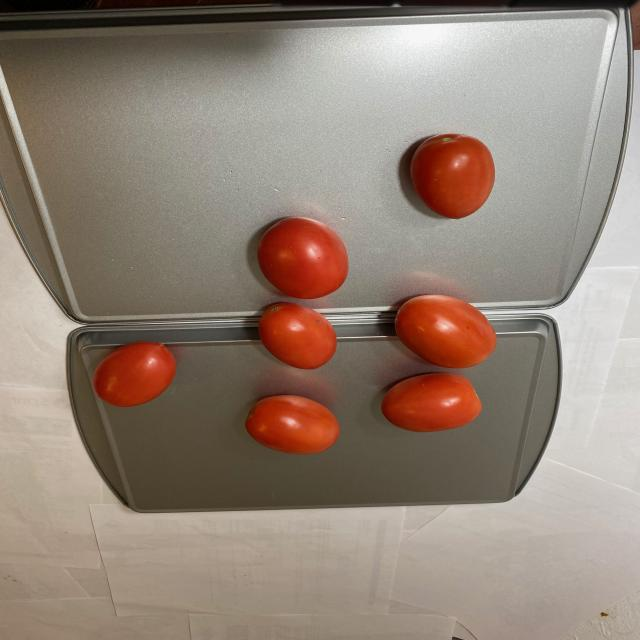tomato: (89, 129, 497, 455)
